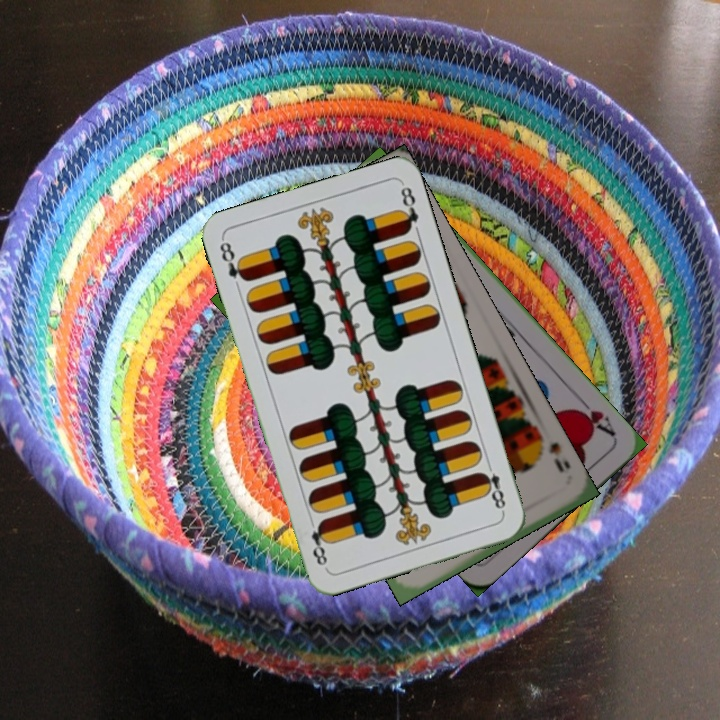E8: (476, 458, 508, 516), (215, 236, 251, 285)
HA: (570, 392, 619, 440)
S9: (535, 430, 573, 475)
